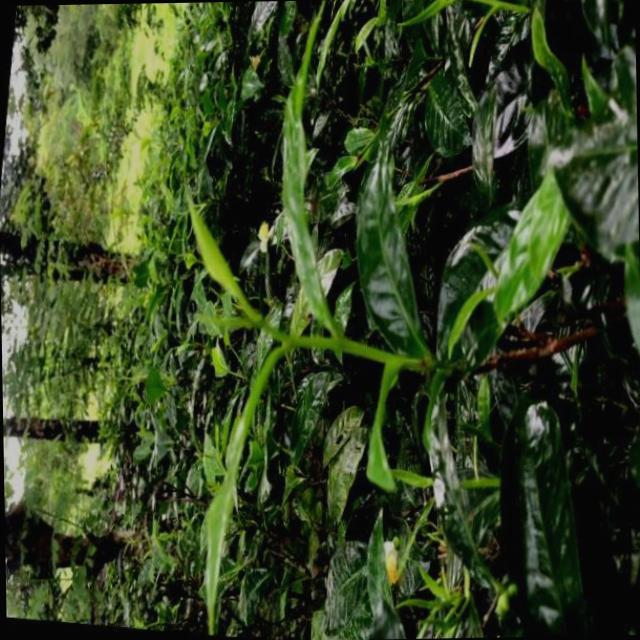Stem: (284, 336, 300, 346)
